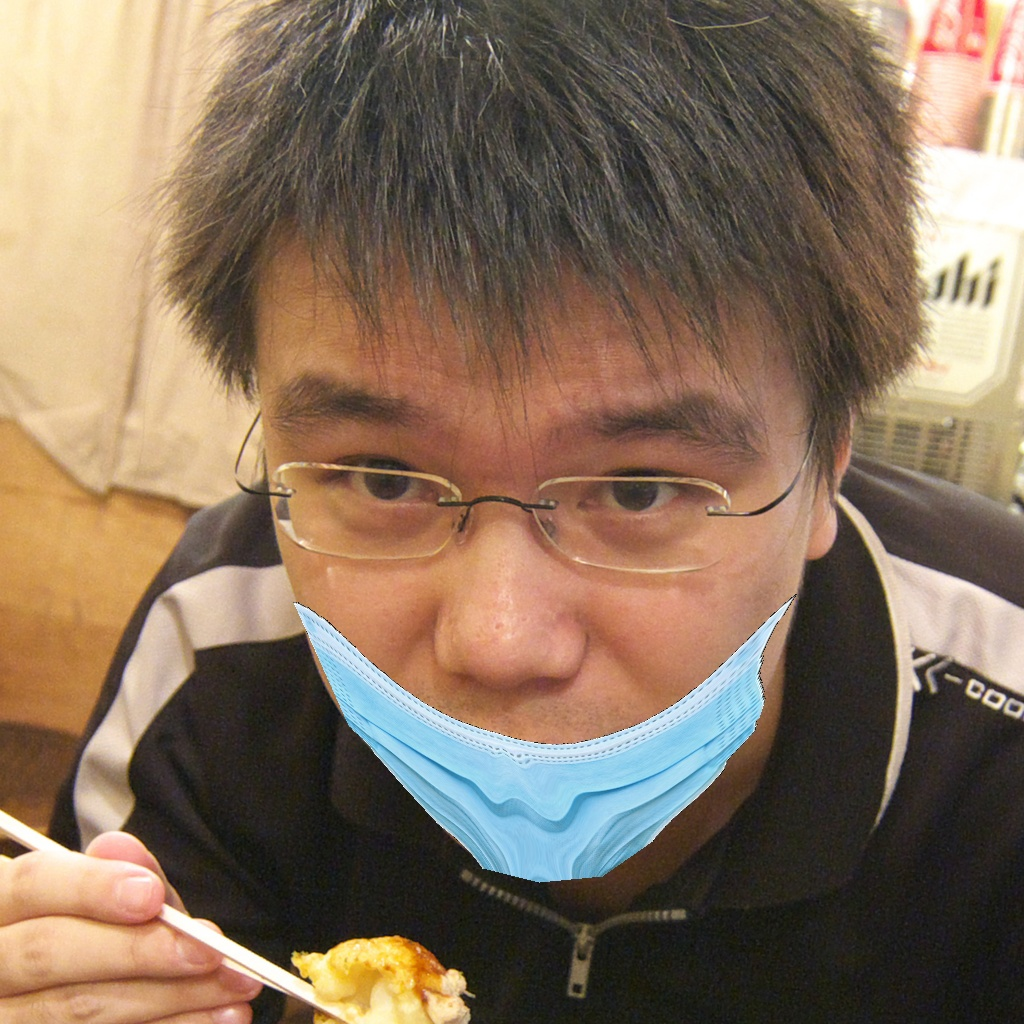mascarilla_mal_puesta: (207, 388, 772, 948)
